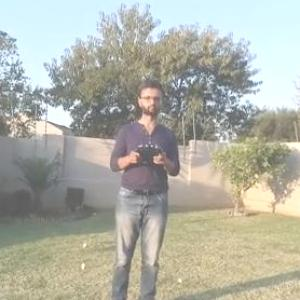follow: (107, 74, 190, 299)
